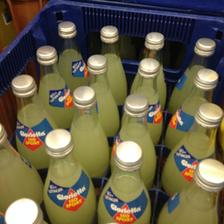Soda: (158, 100, 222, 192), (43, 127, 97, 223), (154, 152, 222, 224), (9, 72, 55, 166), (97, 137, 146, 223), (112, 92, 156, 182), (0, 122, 44, 210), (67, 86, 109, 170)
